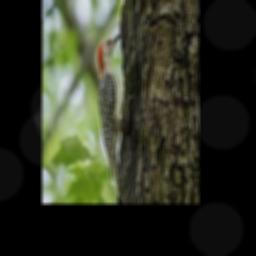Woodpecker: (98, 32, 135, 196)
